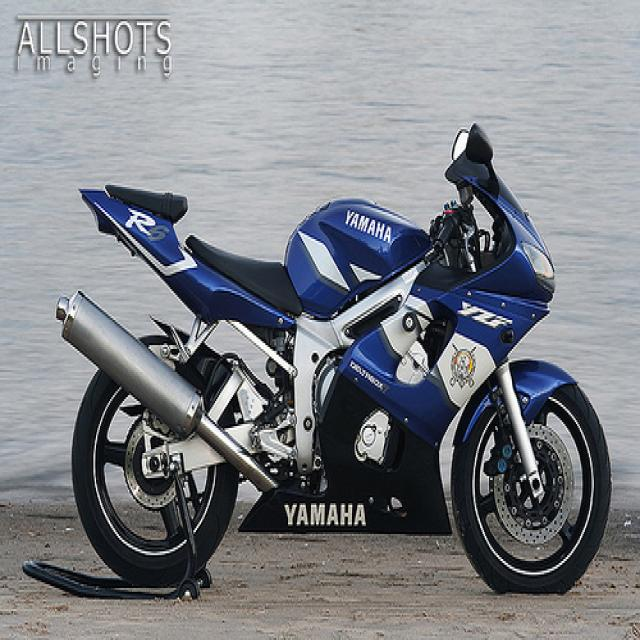motor: (55, 126, 615, 598)
